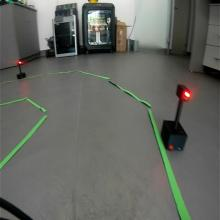red: (176, 82, 191, 102)
